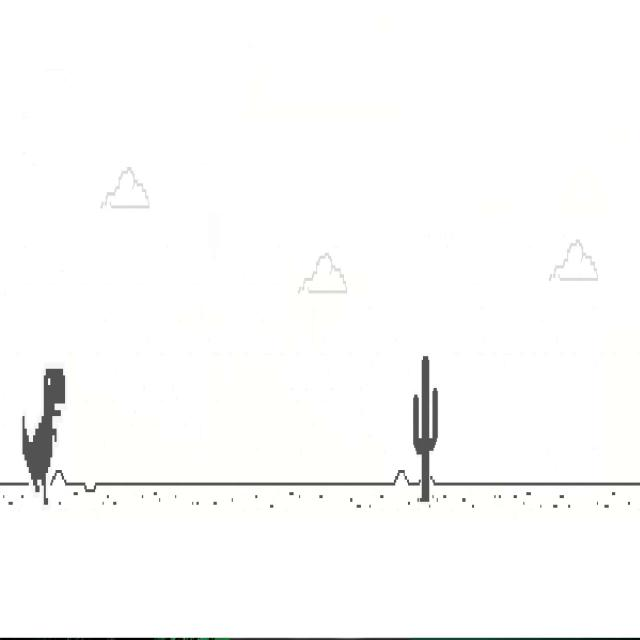cacto: (413, 354, 438, 502)
dino: (22, 368, 65, 506)
